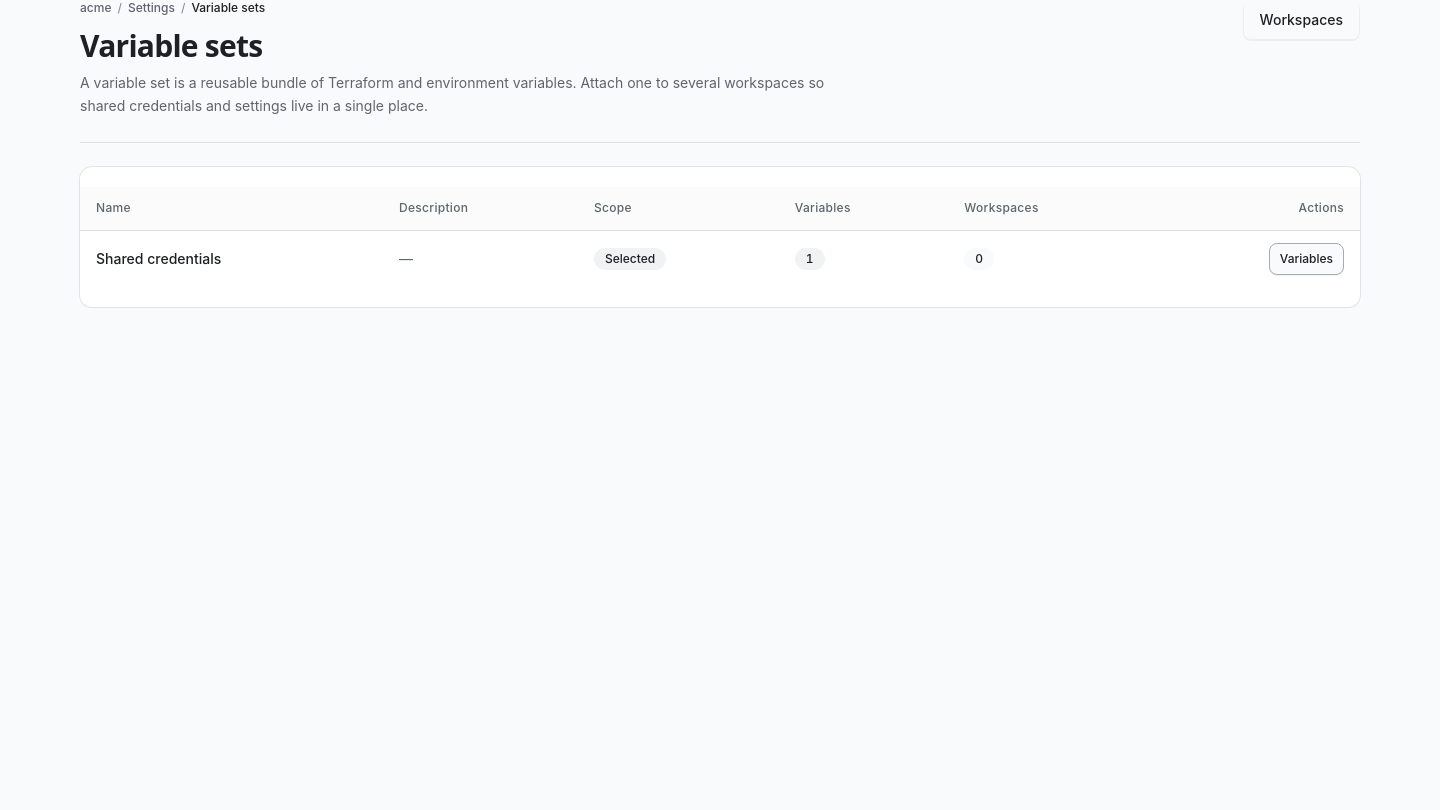
Test: keeps variable sets readable without workspace management permission
Expected: the text "Shared credentials" is shown, x1=80 y1=230 x2=383 y2=287
Click the button "Variables".
click(1306, 259)  # box x1=1269 y1=243 x2=1344 y2=275
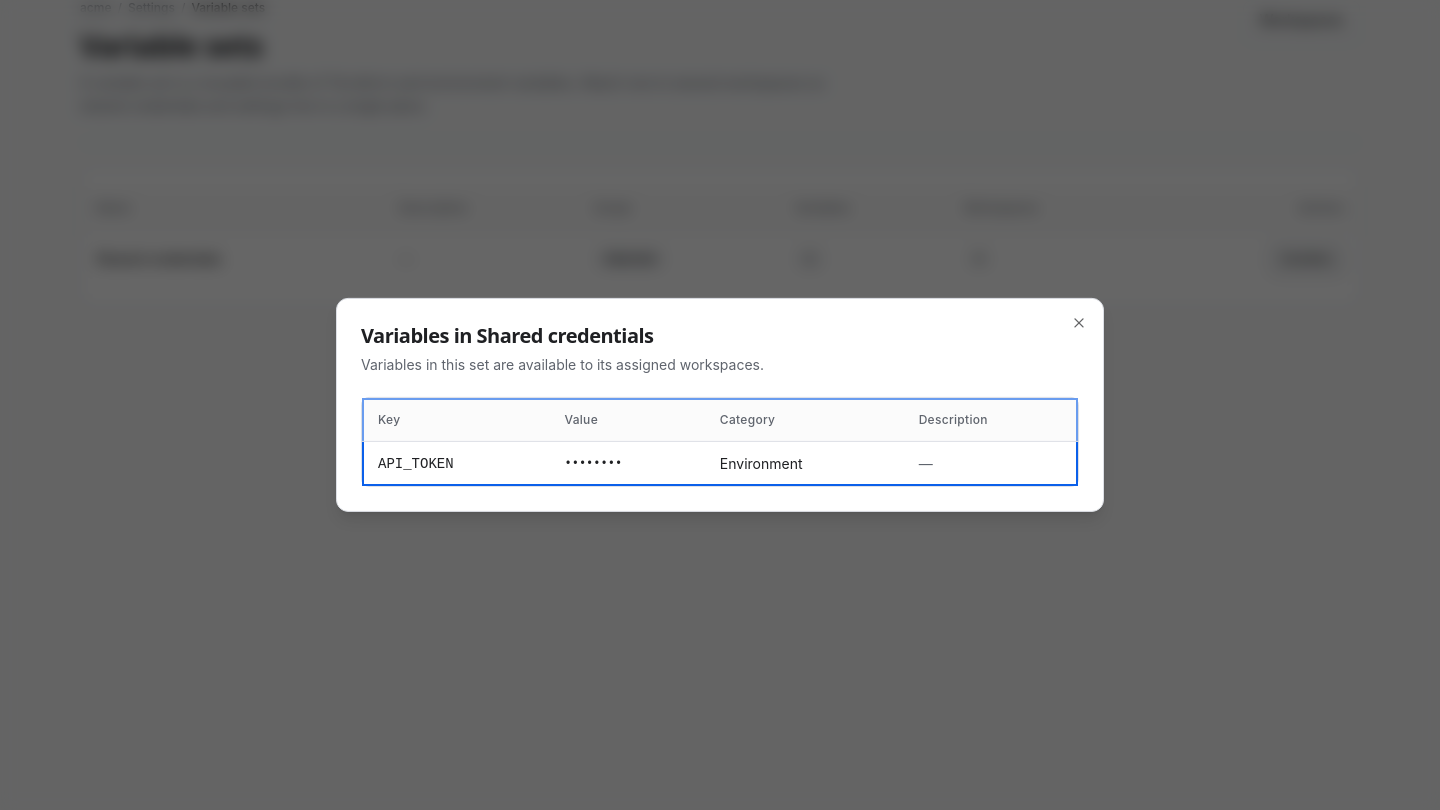
Expected: the text "API_TOKEN" is shown, x1=362 y1=442 x2=548 y2=486
